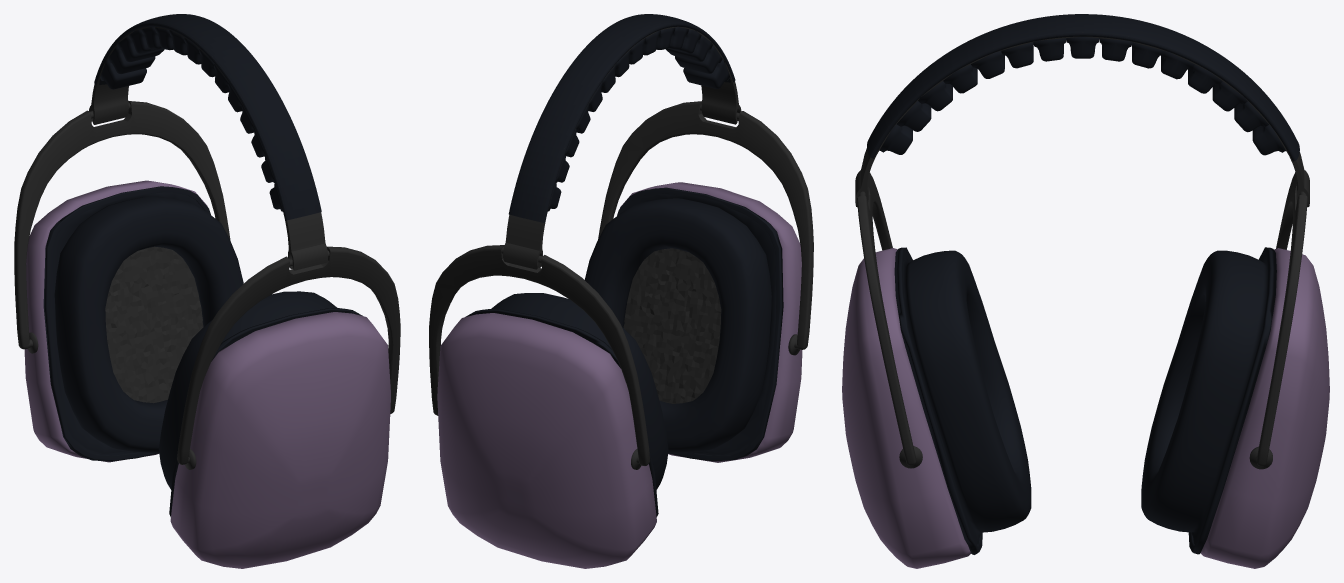
The picture shows the model from 3 angles, left to right: view 1: azimuth 30°, elevation 25°; view 2: azimuth 150°, elevation 25°; view 3: azimuth 270°, elevation 25°; orthographic projection. The views are drawn at different scales.
Parts seen in each view (by area): view 1: Cube.005, SuperToroid, Plane, Cylinder.013, Cylinder.015, Cylinder.014, Cube.001, Cube.004, SuperToroid.001, Cube, Cylinder, Cube.003; view 2: Cube.001, SuperToroid.001, Plane.001, Cylinder.013, Cylinder.014, Cylinder.015, Cube.005, Cube.004, SuperToroid, Cylinder, Cube.003, Cube; view 3: SuperToroid.001, SuperToroid, Cube.001, Cube.005, Cylinder.013, Cube.004, Cylinder.014, Cylinder.015, Cube, Cube.003, Cylinder.
Part boxes in pixels (x1,y1,x2,y2): Cube.005: (170,312,390,568); SuperToroid: (51,192,243,453); Plane: (105,246,203,403); Cylinder.013: (94,14,321,220); Cylinder.015: (14,101,230,349); Cylinder.014: (177,246,400,464); Cube.001: (24,180,207,462); Cube.004: (100,27,282,211); SuperToroid.001: (158,291,337,489); Cube: (43,186,210,461); Cylinder: (89,27,327,270); Cube.003: (169,308,362,517); Cube.001: (437,313,656,568); SuperToroid.001: (584,193,776,454); Plane.001: (623,248,721,403); Cylinder.013: (508,14,735,222); Cylinder.014: (598,101,813,349); Cylinder.015: (429,245,650,465); Cube.005: (620,182,802,462); Cube.004: (548,27,729,211); SuperToroid: (491,293,668,489); Cylinder: (503,26,741,269); Cube.003: (617,187,783,461); Cube: (465,309,658,516); SuperToroid.001: (903,250,1031,544); SuperToroid: (1141,250,1267,543); Cube.001: (1201,248,1329,568); Cube.005: (842,248,970,568); Cylinder.013: (867,14,1299,161); Cube.004: (879,36,1285,155); Cylinder.014: (857,172,916,465); Cylinder.015: (1256,170,1307,466); Cube: (1188,247,1276,554); Cube.003: (894,247,982,554); Cylinder: (855,32,1309,207).
Size of the model in its own units: 118 by 248 by 209.
